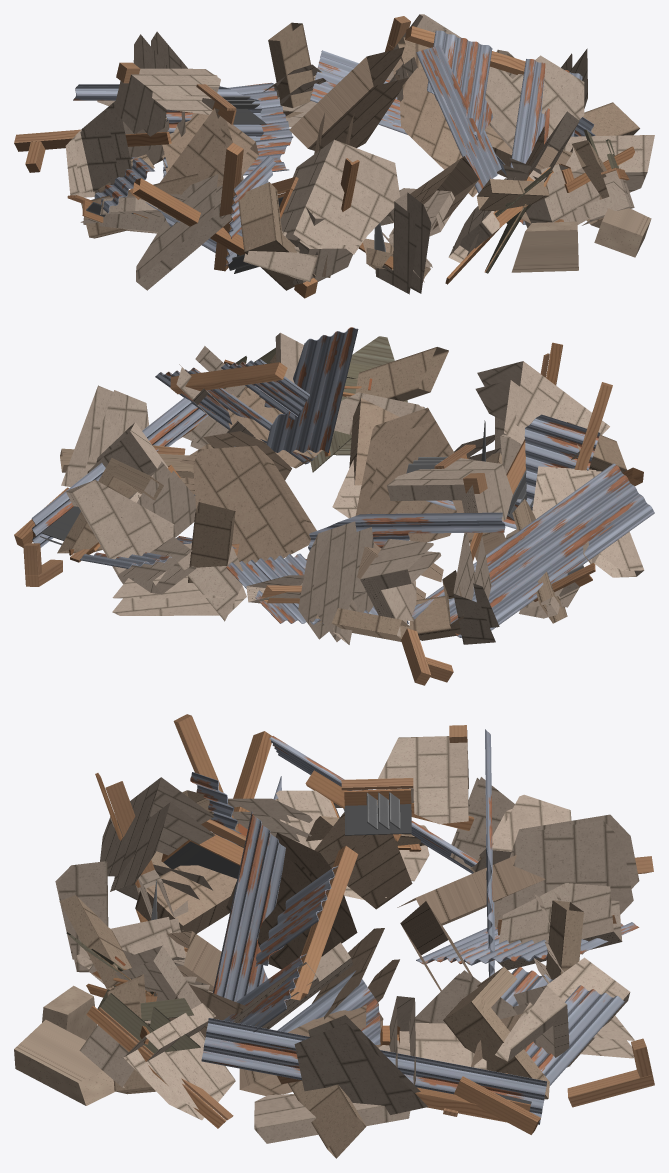
The model's file is houdini_block_shed_pieces.glb.
3 renders of one model, top to bottom at view 1: azimuth 30°, elevation 25°; view 2: azimuth 150°, elevation 25°; view 3: azimuth 270°, elevation 25°, orthographic. The views are drawn at different scales.
Parts seen in each view (by area): view 1: LOD0; view 2: LOD0; view 3: LOD0.
Part boxes in pixels (x1,y1,x2,y2): LOD0: (14,14,654,298); LOD0: (14,327,654,685); LOD0: (14,714,654,1158).
Bounding box in the file's own units: 8.05 × 2.41 × 6.86.
Materials: 5 (5 with a texture image).
